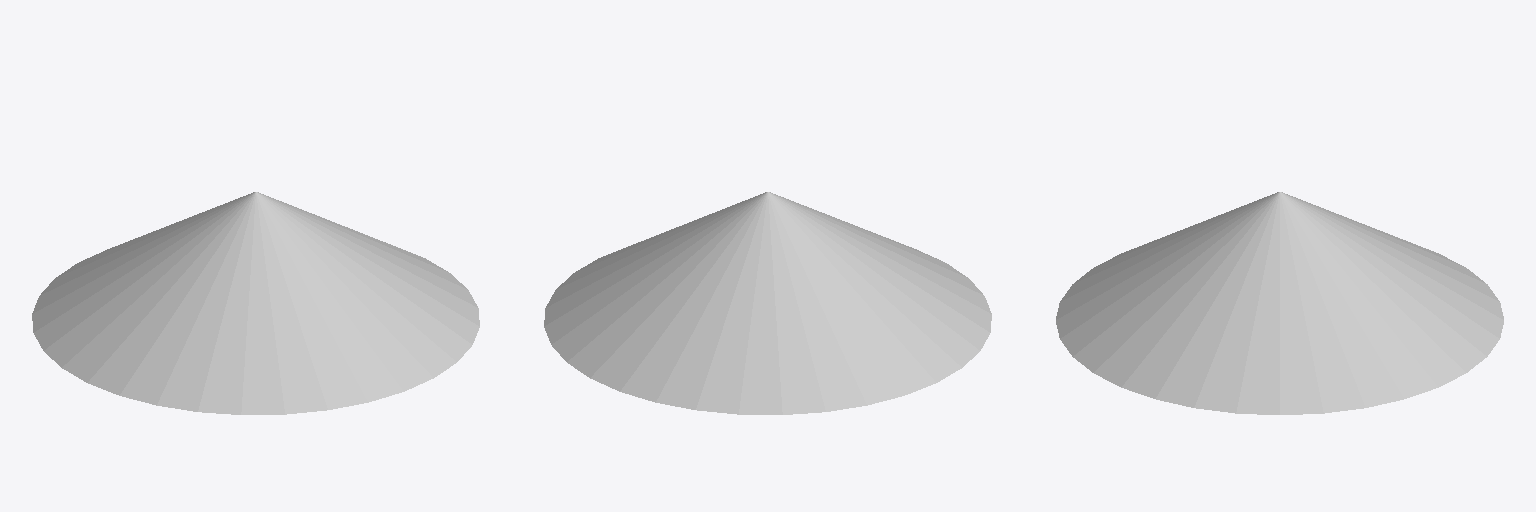
Rendered from topLampRight.obj.
3 renders of one model, left to right at view 1: azimuth 30°, elevation 25°; view 2: azimuth 150°, elevation 25°; view 3: azimuth 270°, elevation 25°, orthographic.
Visible parts, largest first — view 1: lampCover.001_Cone.002; view 2: lampCover.001_Cone.002; view 3: lampCover.001_Cone.002.
Part boxes in pixels (x1,y1,x2,y2): lampCover.001_Cone.002: (32,192,479,414); lampCover.001_Cone.002: (544,192,991,414); lampCover.001_Cone.002: (1056,192,1503,414).
Bounding box in the file's own units: 2 × 0.6347 × 2.